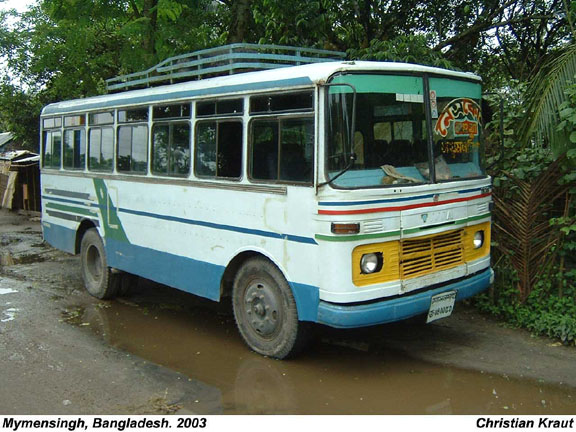bus: (32, 58, 497, 359)
